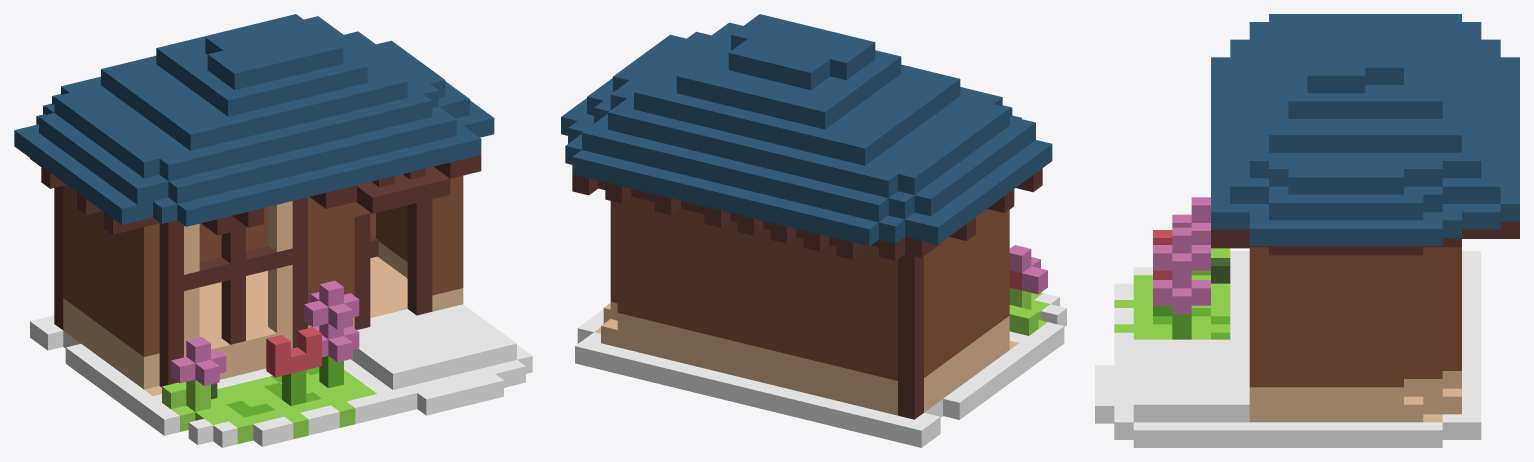
The model's file is home2.gltf.
The picture shows the model from 3 angles, left to right: view 1: azimuth 30°, elevation 25°; view 2: azimuth 150°, elevation 25°; view 3: azimuth 270°, elevation 25°; orthographic projection. The views are drawn at different scales.
Visible parts, largest first — view 1: Layer.1; view 2: Layer.1; view 3: Layer.1.
Boxes of the visible parts, x1,y1,x2,y2 form: Layer.1: [14, 14, 532, 447]; Layer.1: [561, 14, 1066, 447]; Layer.1: [1095, 14, 1519, 447].
Bounding box in the file's own units: 24 × 18 × 22.
1 material, 1 textured.
